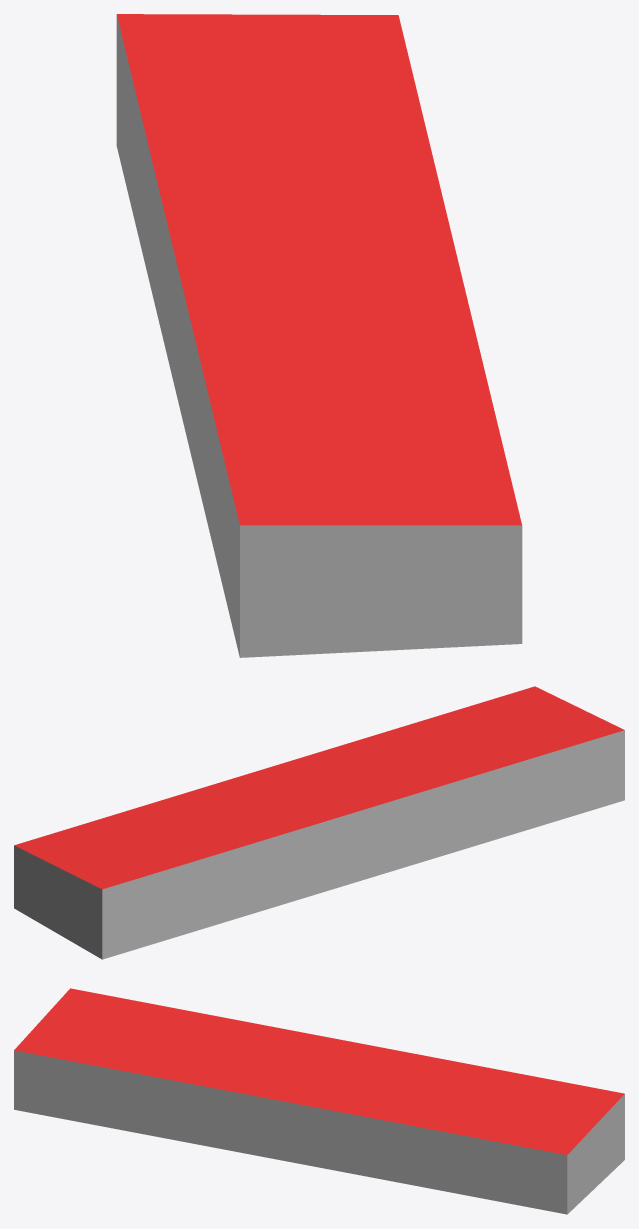
Rendered from DEBY_LOD2_4908050.dae.
3 views of the same model, one above another, from view 1: azimuth 30°, elevation 25°; view 2: azimuth 150°, elevation 25°; view 3: azimuth 270°, elevation 25° (orthographic). The views are drawn at different scales.
Bounding box in the file's own units: 14.8 × 23.88 × 2.86.
